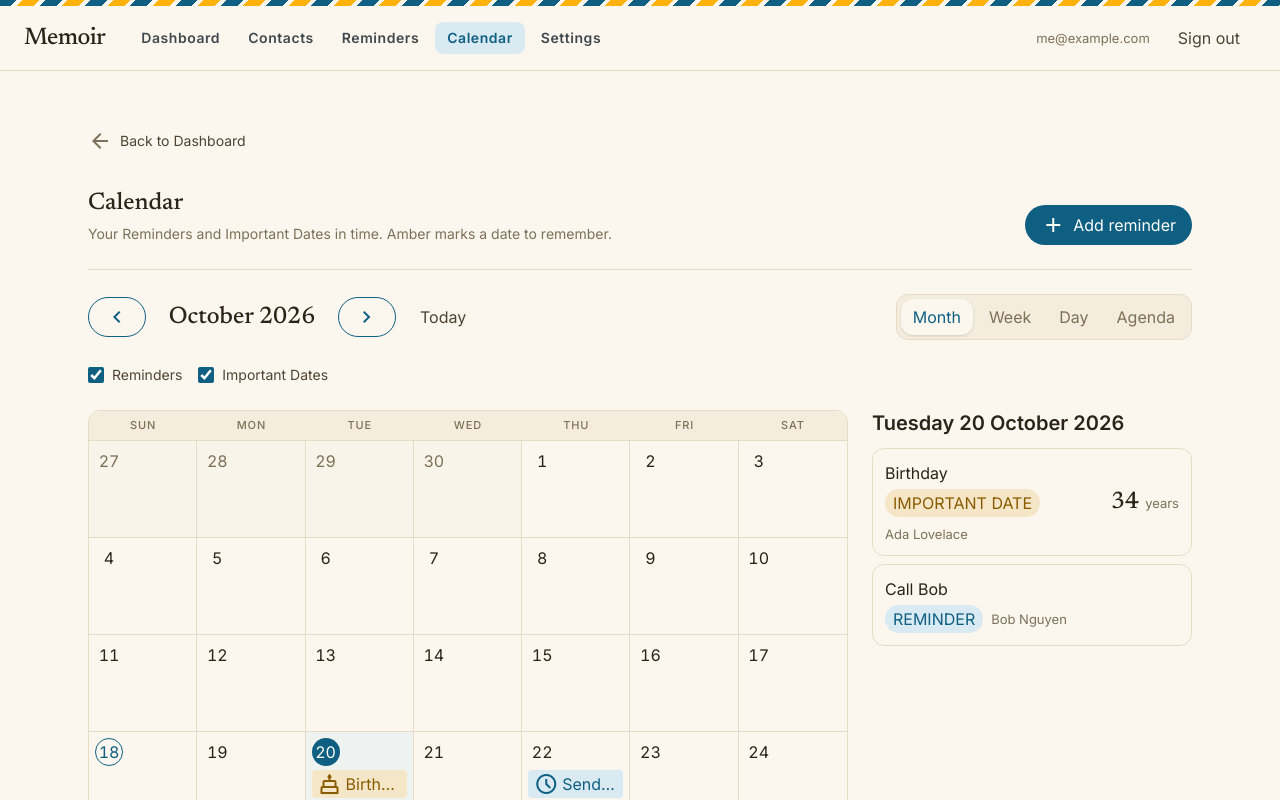
Test: Calendar views › steps to the next month
The width and height of the screenshot is (1280, 800).
Click the button named "Next": [367, 317] box [338,297,396,337]
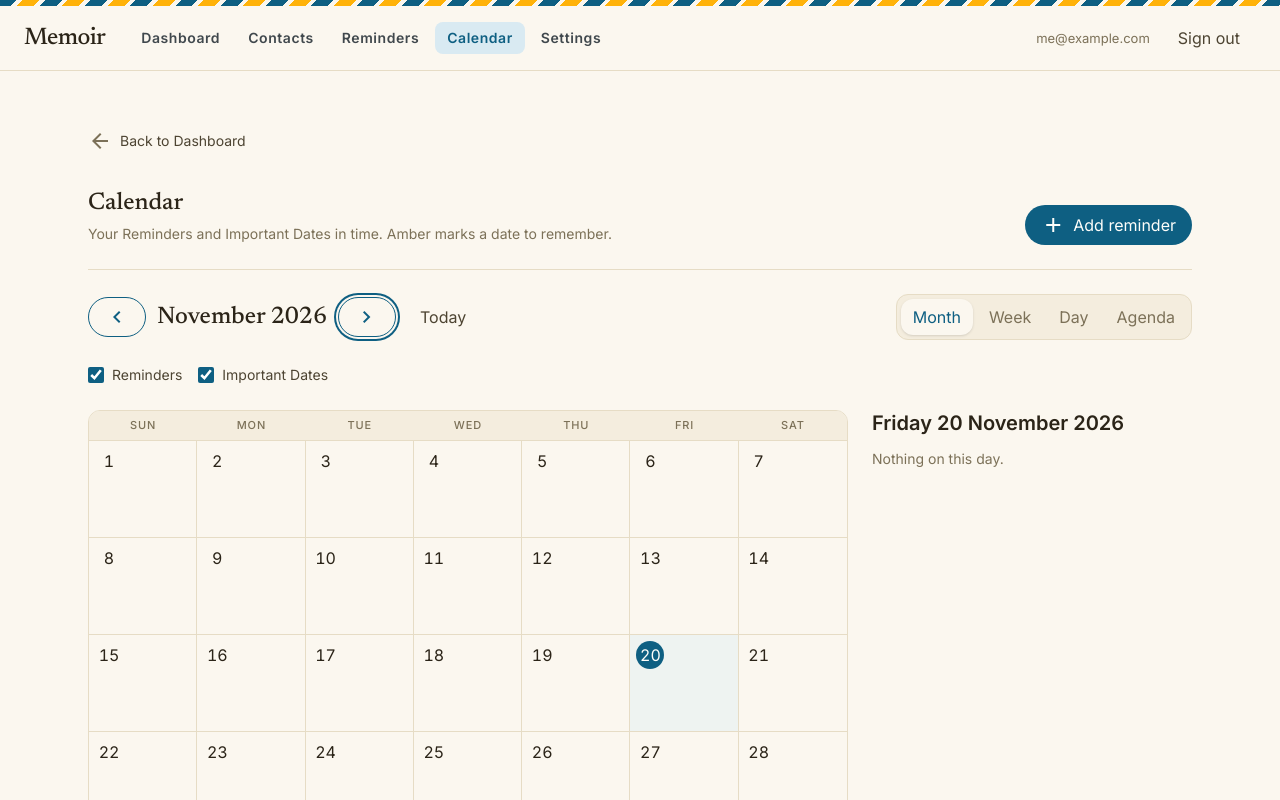
Check: the heading "November 2026" is shown, box [154,302,330,332]
